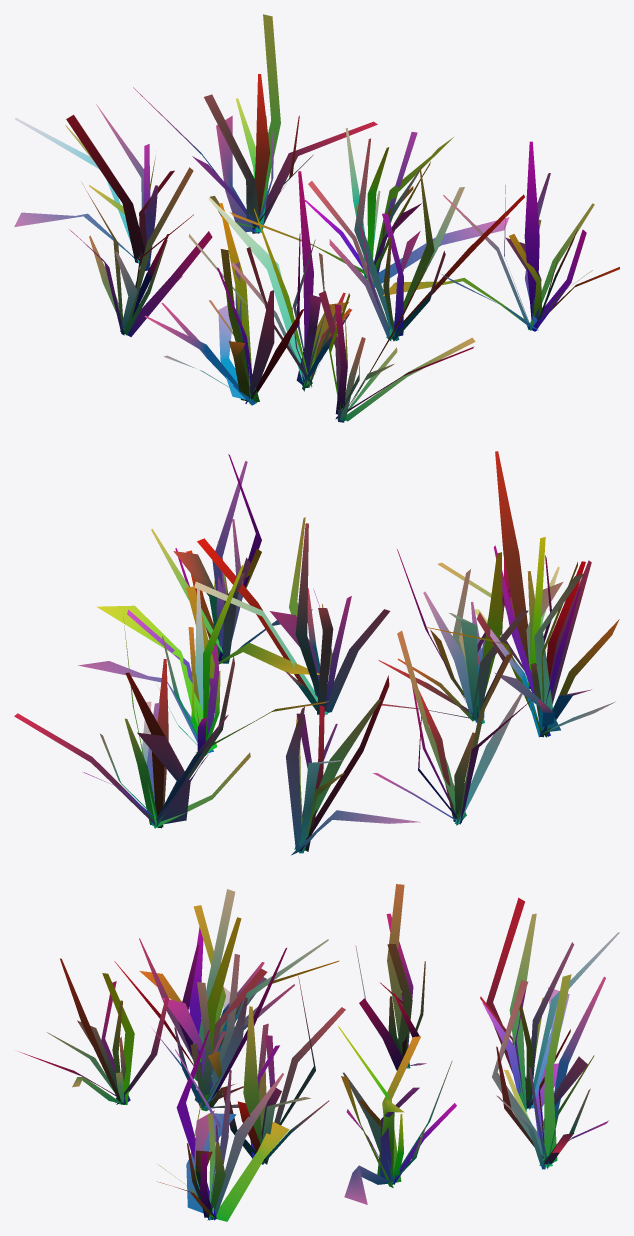
File: Grass_Clumps_qmBr2_Low_qmBr2_VarC_LOD0.fbx
3 views of the same model, one above another, from view 1: azimuth 30°, elevation 25°; view 2: azimuth 150°, elevation 25°; view 3: azimuth 270°, elevation 25° (orthographic). The views are drawn at different scales.
Parts seen in each view (by area): view 1: _586b_VarC_LOD1; view 2: _586b_VarC_LOD1; view 3: _586b_VarC_LOD1.
Boxes of the visible parts, x1=… form: _586b_VarC_LOD1: x1=14, y1=14, x2=619, y2=422; _586b_VarC_LOD1: x1=14, y1=451, x2=619, y2=855; _586b_VarC_LOD1: x1=18, y1=884, x2=619, y2=1221.
Size of the model in its own units: 55.5 by 24.98 by 67.08.
